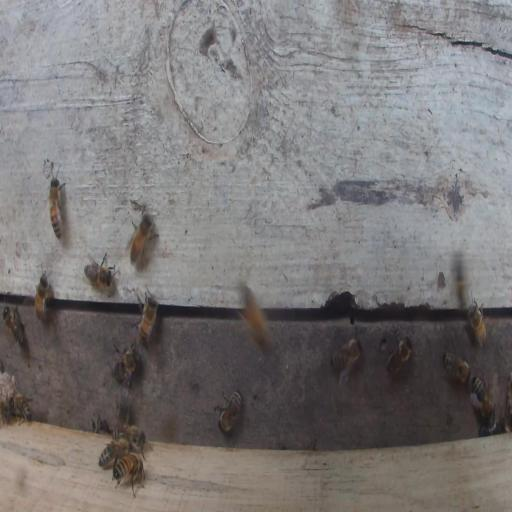bee: (330, 331, 364, 388), (129, 210, 158, 272), (111, 453, 145, 498), (111, 340, 141, 388), (83, 252, 118, 291), (386, 329, 413, 374), (215, 389, 242, 433), (469, 375, 494, 422), (138, 289, 158, 347), (465, 298, 487, 348), (123, 424, 153, 459), (35, 270, 54, 325), (442, 350, 471, 385), (2, 305, 26, 347), (98, 439, 129, 467), (48, 178, 61, 240), (9, 391, 32, 426), (479, 416, 507, 435), (116, 402, 130, 430), (91, 415, 110, 433)
